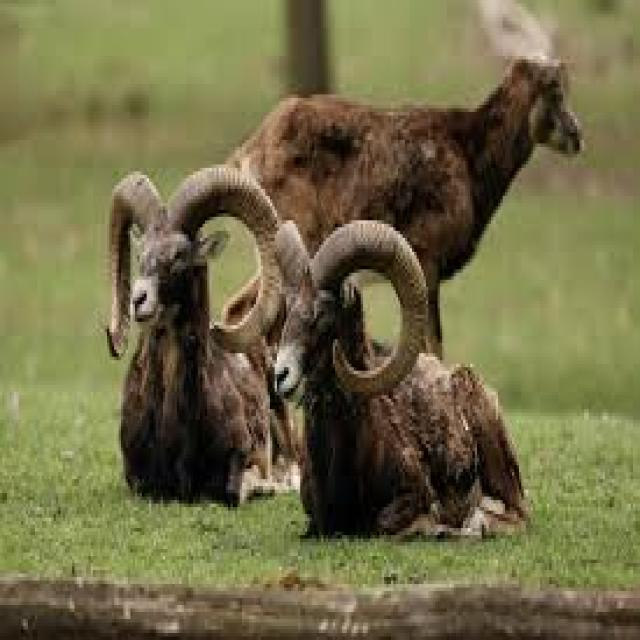Animal: (76, 31, 600, 576)
Forest: (0, 0, 640, 640)
